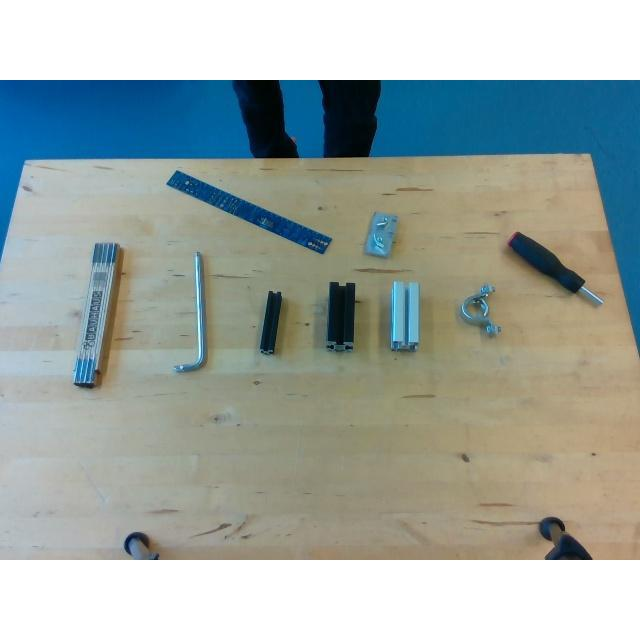AllenKey: (172, 252, 208, 372)
F20_20_B: (259, 291, 281, 354)
Housing: (459, 282, 501, 334)
S40_40_B: (326, 281, 354, 349)
S40_40_G: (389, 281, 419, 349)
